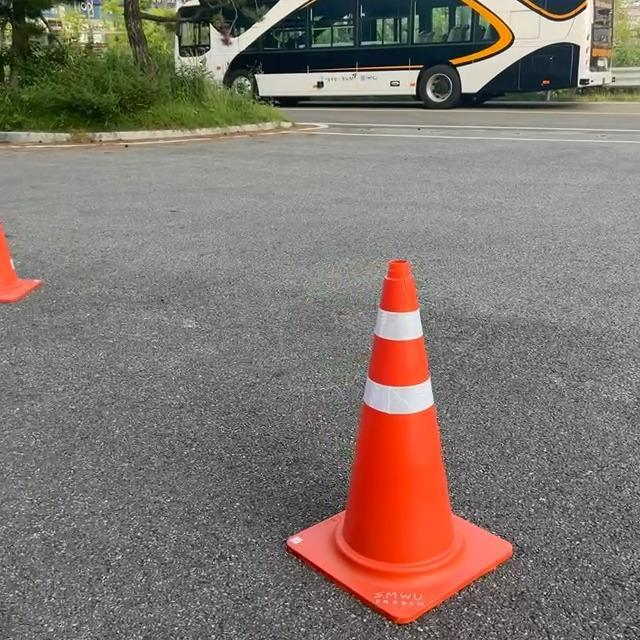fallen_object: (235, 213, 512, 640), (0, 199, 73, 345)
